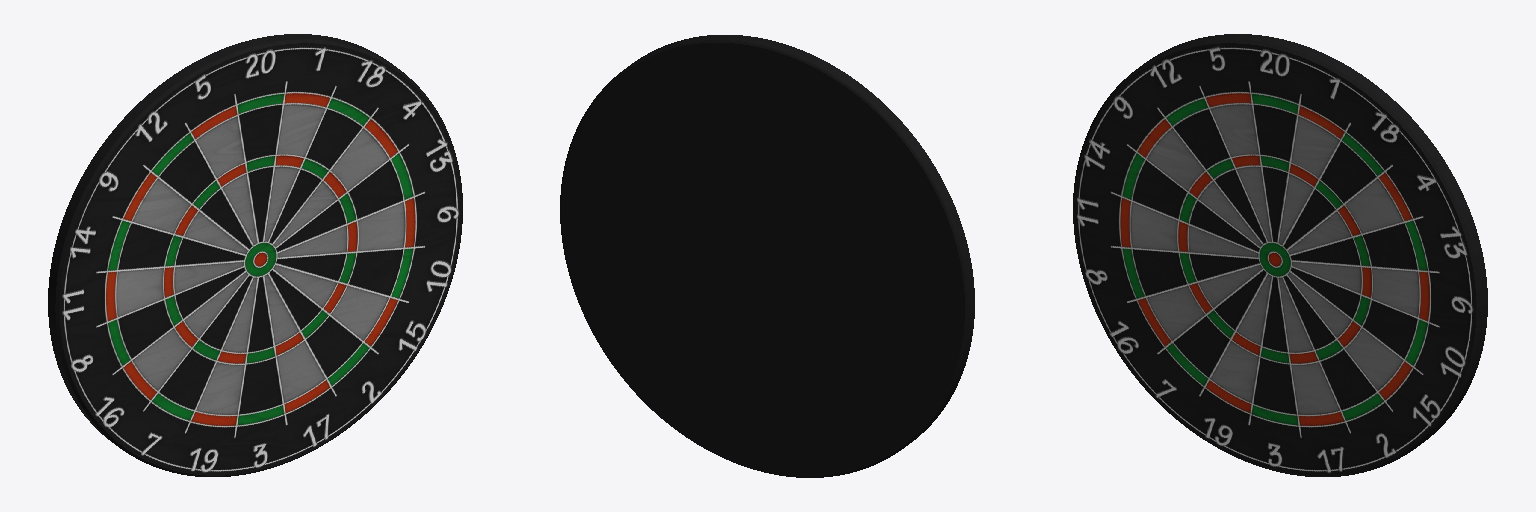
3 renders of one model, left to right at view 1: azimuth 30°, elevation 25°; view 2: azimuth 150°, elevation 25°; view 3: azimuth 330°, elevation 25°, orthographic.
Parts seen in each view (by area): view 1: 11721_darboard_model; view 2: 11721_darboard_model; view 3: 11721_darboard_model.
Boxes of the visible parts, x1=… form: 11721_darboard_model: x1=48, y1=34, x2=462, y2=476; 11721_darboard_model: x1=560, y1=35, x2=974, y2=477; 11721_darboard_model: x1=1073, y1=34, x2=1487, y2=476.
Bounding box in the file's own units: 53.5 × 53.5 × 2.21.
1 materials, 1 textured.